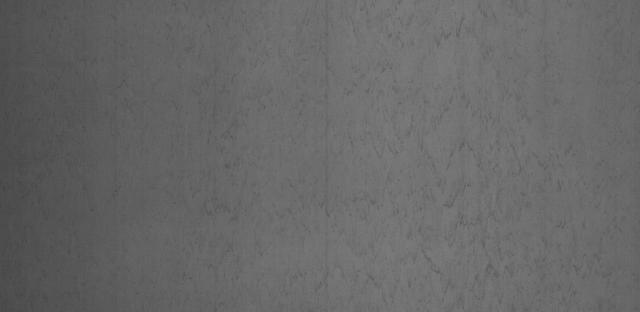silk_spot: (344, 14, 622, 294), (167, 14, 331, 286)
